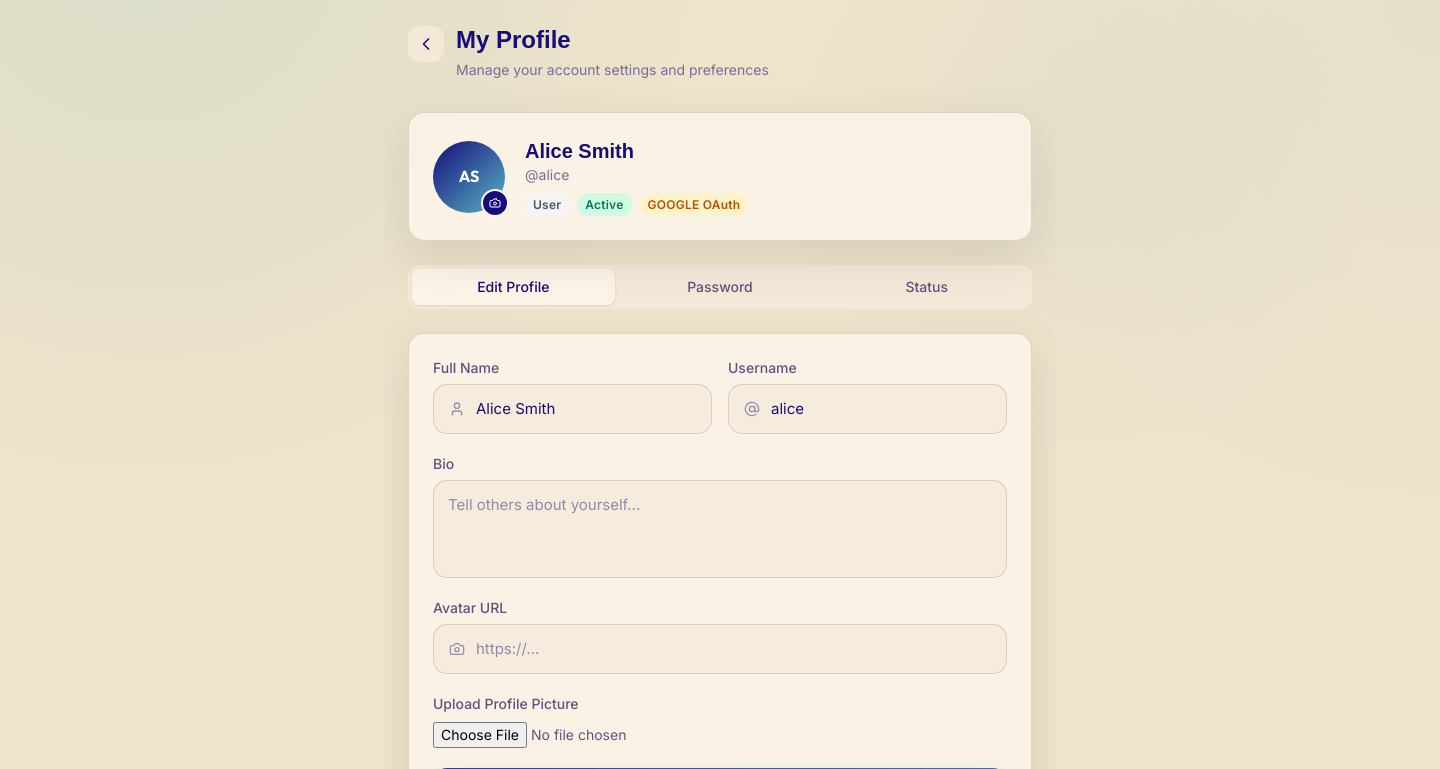
Test: ProfilePage › shows OAuth message in password tab if not LOCAL provider
Click the button "Password".
click(720, 287)  # box x1=619 y1=269 x2=821 y2=305
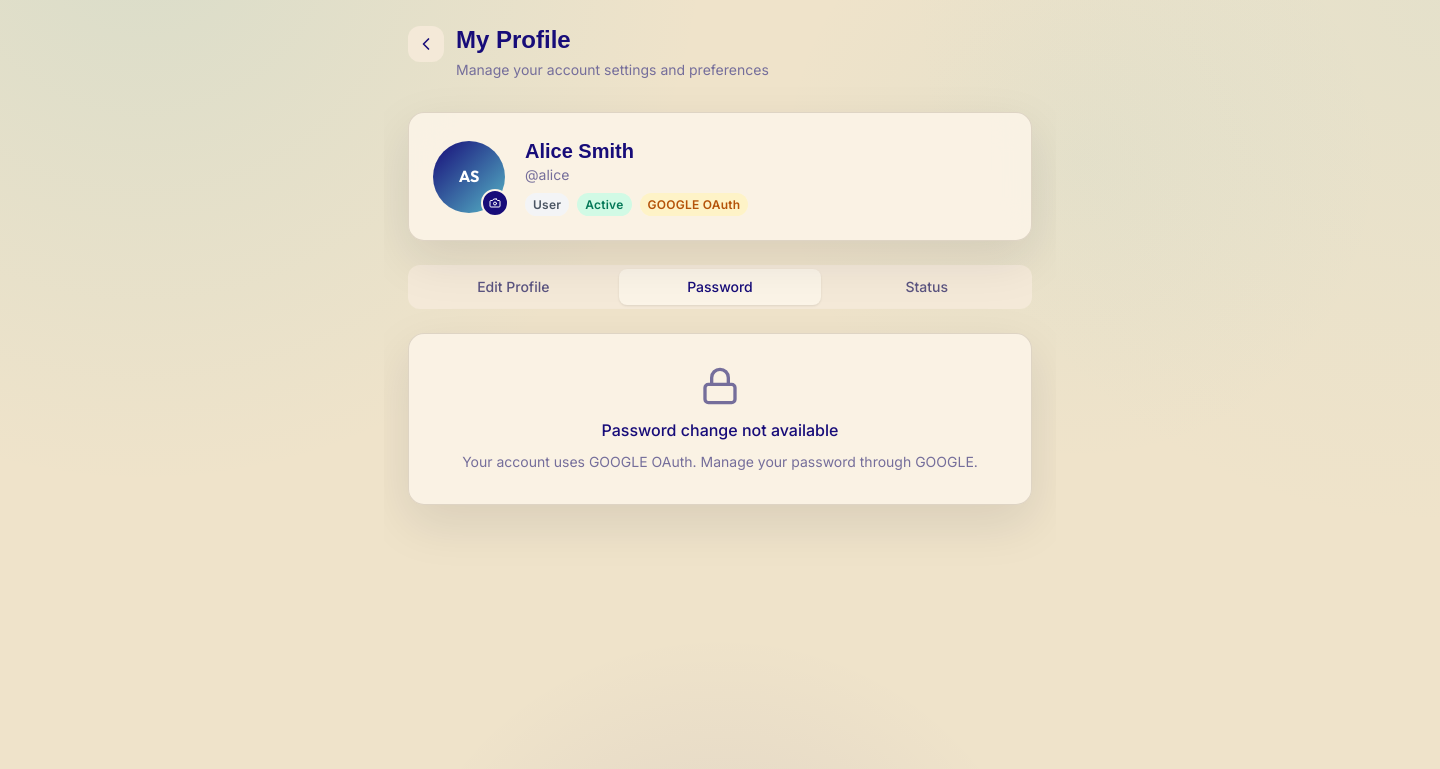
Result: the text "Manage your password through GOOGLE" is shown at x1=441 y1=452 x2=999 y2=472
